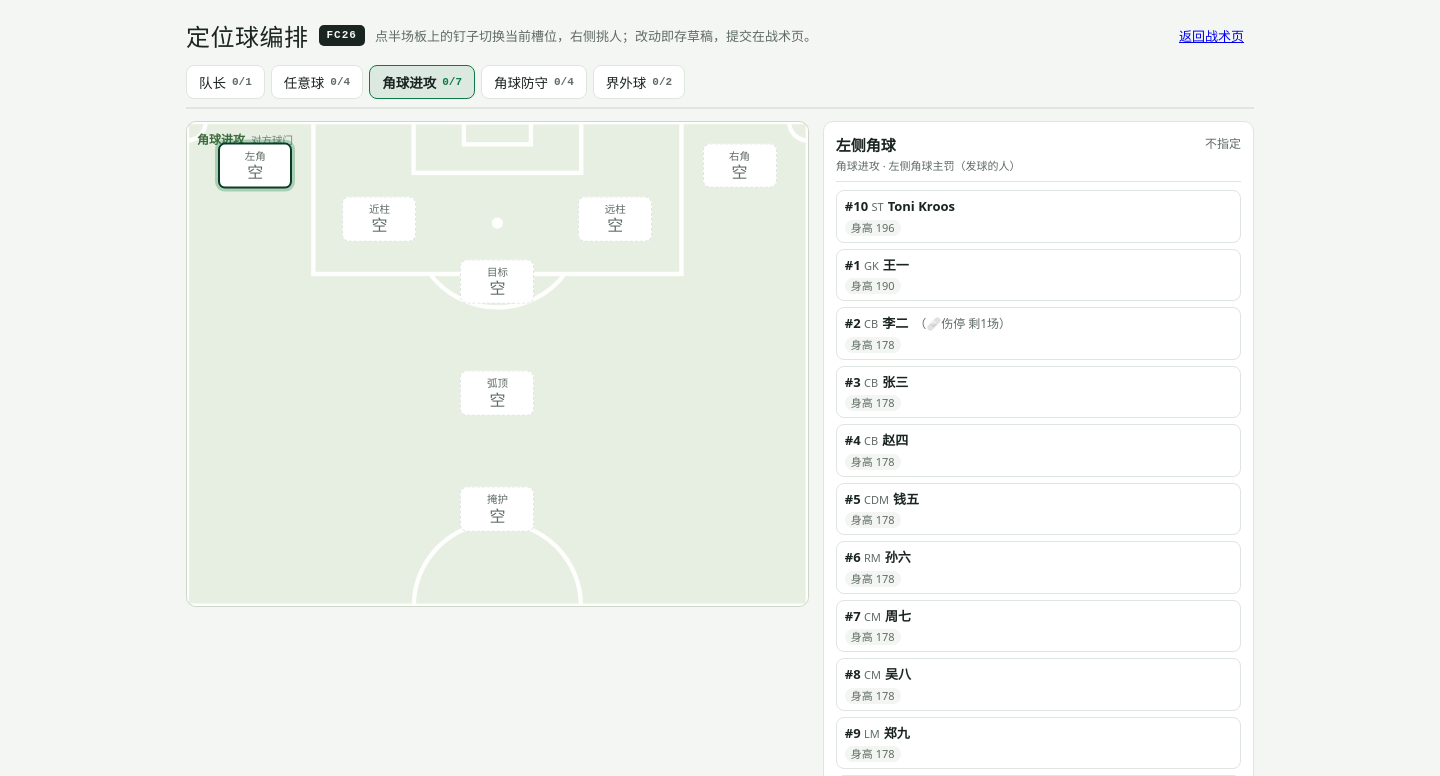
Test case: 定位球编排页（桌面） › 切页签换组：队长组没有半场板，只有纯候选列表；换回定位球组板子回来
The image size is (1440, 776).
Click the button with class "asg-tab" showing "队长 0/1": (225, 82) [186,65,265,99]
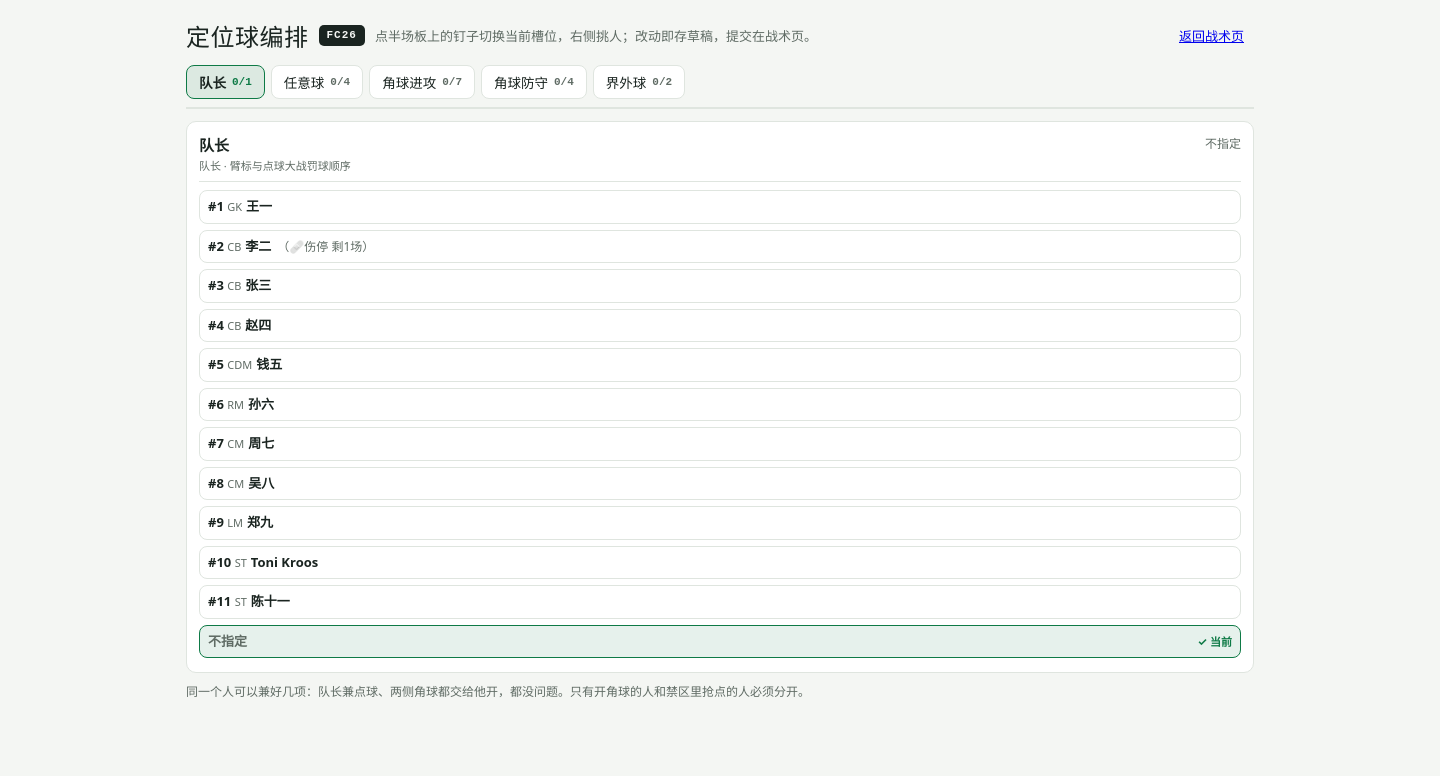
Check: the element with class "asg-board" is gone
Check: the element with class "no-board" is shown, box [186,121,1254,673]
Check: the heading "队长 队长 · 臂标与点球大战罚球顺序" is shown, box [199,135,351,173]
Click the button with class "asg-tab" showing "界外球 0/2": (639, 82) [593,65,685,99]
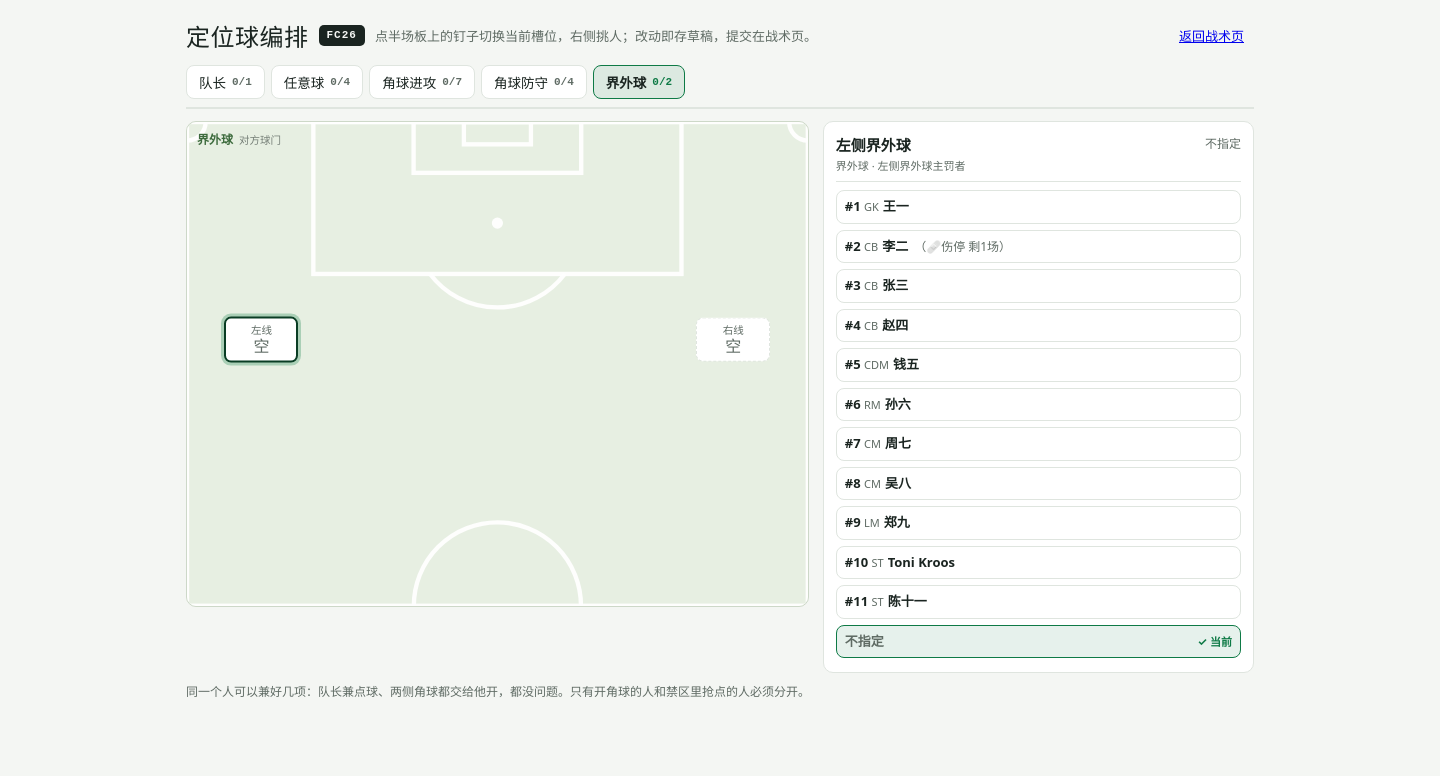
Check: the heading "左侧界外球 界外球 · 左侧界外球主罚者" is shown, box [836,135,966,173]
Click the button with class "asg-tab" showing "角球防守 0/4": (534, 82) [481,65,587,99]
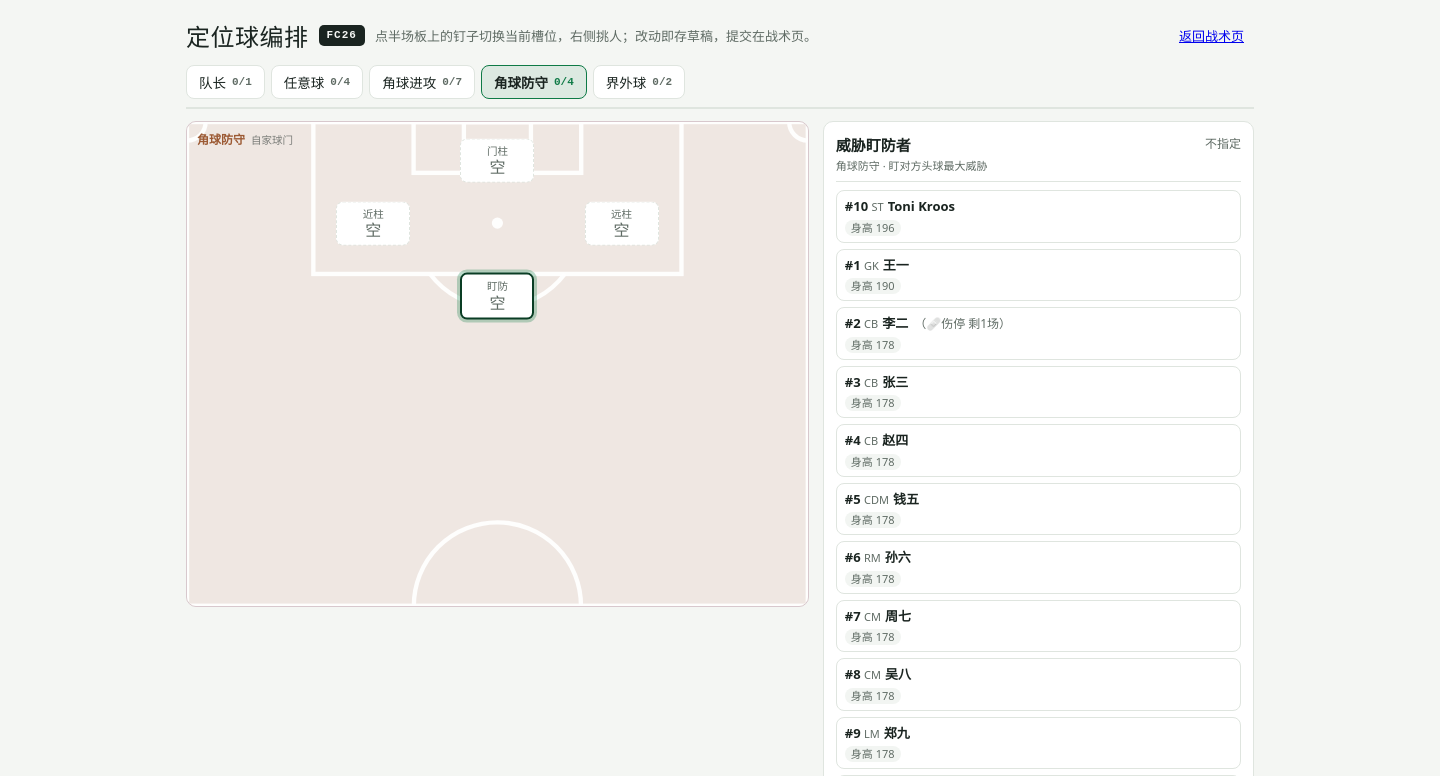
Check: the element with class "asg-board-defense" is shown, box [186,121,809,607]
Check: the element with class "asg-board-cap" shows "自家球门", box [251,133,293,147]
